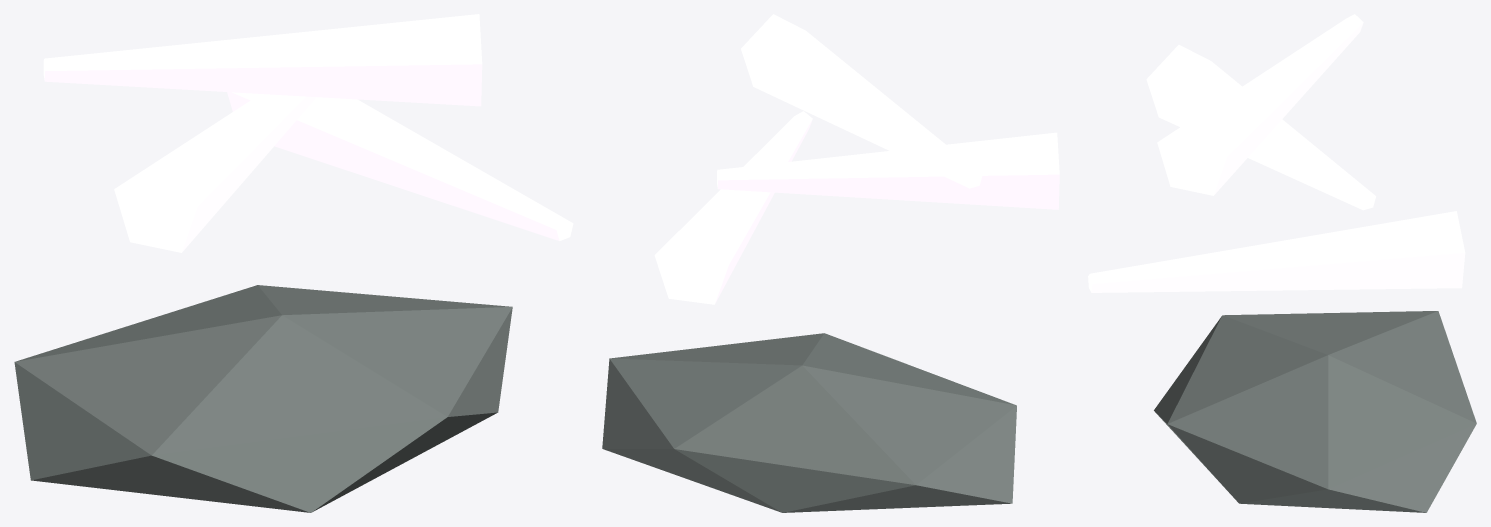
Rendered from glow_crystal_02.glb.
3 renders of one model, left to right at view 1: azimuth 30°, elevation 25°; view 2: azimuth 150°, elevation 25°; view 3: azimuth 270°, elevation 25°, orthographic. The views are drawn at different scales.
Parts seen in each view (by area): view 1: glow_crystal_02; view 2: glow_crystal_02; view 3: glow_crystal_02.
Boxes of the visible parts, x1,y1,x2,y2 form: glow_crystal_02: (14, 14, 573, 512); glow_crystal_02: (602, 14, 1059, 512); glow_crystal_02: (1088, 14, 1476, 512).
Size of the model in its own units: 0.6814 by 0.6484 by 0.5688.
